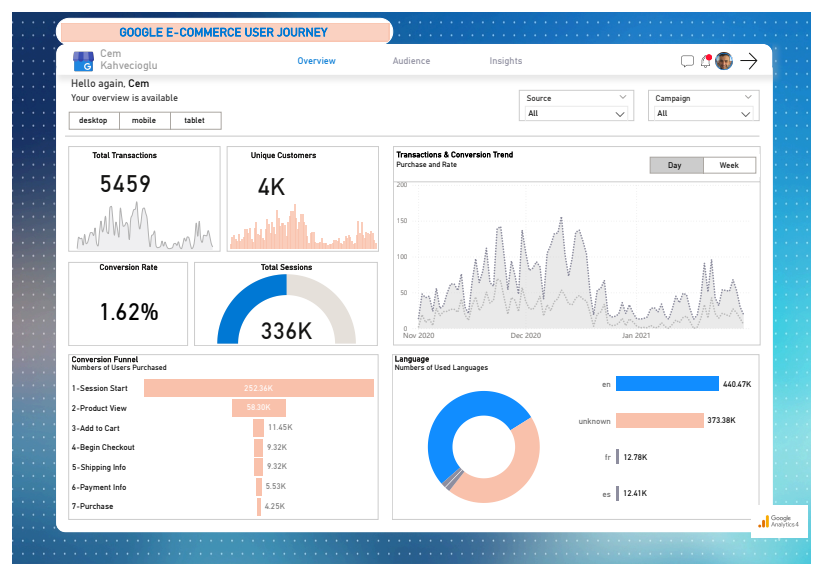

The dashboard page shown, as its layout file describes it:
{"tool":"powerbi","page":{"name":"Overview ","canvas":[1450,1000],"ordinal":0},"visuals":[{"type":"shape","box":[79.6,10.2,611.8,49],"z":0,"group":"g2"},{"type":"shape","box":[79.6,87,1300,855.6],"z":0},{"type":"areaChart","fields":{"Y":["Query1.Purchase_Correct"],"Category":["Query1.event_date"]},"box":[101.9,242.6,275.9,190.7],"z":0,"group":"g3"},{"type":"areaChart","title":"Transactions & Conversion Trend","fields":{"Category":["Query1.event_date"],"Y2":["Query1.Conversion_Rate"],"Y":["Query1.Purchase_Correct"]},"box":[690.7,298.2,666.7,305.6],"z":0,"group":"g4"},{"type":"shape","box":[688.9,620.4,666.7,300],"z":0,"group":"g1"},{"type":"textbox","box":[114.9,18,539.2,35.3],"z":1000,"group":"g2"},{"type":"textbox","box":[690.7,242.6,666.7,64.8],"z":1000,"group":"g4"},{"type":"card","title":"Total Transactions","fields":{"Values":["Query1.Purchase_Correct"]},"box":[140.8,250,128,94.4],"z":1000,"group":"g3"},{"type":"funnel","title":"Conversion Funnel","fields":{"Category":["Query1.Funnel_info"],"Y":["Count(Query1.user_pseudo_id)"]},"box":[101.9,620.4,563,300],"z":1000},{"type":"donutChart","title":"Language","fields":{"Category":["Query1.language"],"Y":["CountNonNull(Query1.language)"]},"box":[688.9,620.4,333.3,300],"z":1000,"group":"g1"},{"type":"advancedSlicerVisual","fields":{"Values":["date param.date param"]},"box":[1151.8,257.4,203.7,40.7],"z":2000,"group":"g4"},{"type":"gauge","title":"Total Sessions","fields":{"Y":["Query1.Session_Start_Count"]},"box":[329.6,451.9,333.3,151.9],"z":2000},{"type":"clusteredBarChart","fields":{"Y":["CountNonNull(Query1.language)"],"Category":["Query1.language"]},"box":[1022.2,620.4,333.3,300],"z":2000,"group":"g1"},{"type":"clusteredColumnChart","fields":{"Y":["Query1.Unique Customers"],"Category":["Query1.event_date"]},"box":[388.9,242.6,275.9,190.7],"z":3000},{"type":"group","id":"g1","title":"Group 2","box":[688.9,620.4,666.7,300],"z":4000},{"type":"card","title":"Conversion Rate","fields":{"Values":["Query1.Conversion_Rate"]},"box":[101.9,451.9,216.7,151.9],"z":5000},{"type":"shape","box":[96.3,203.7,1261.1,40.7],"z":6000},{"type":"advancedSlicerVisual","title":"category","fields":{"Values":["Query1.category"]},"box":[97.1,175.6,287,42.6],"z":7000},{"type":"cardVisual","title":"Unique Customers","fields":{"Data":["Query1.Unique Customers"]},"box":[427.8,250,137,94.4],"z":8000},{"type":"slicer","title":"asd","fields":{"Values":["Query1.campaign"]},"box":[1154.1,140.8,202.2,55.6],"z":9000},{"type":"shape","box":[79,56.8,1301.2,55.6],"z":10000},{"type":"slicer","fields":{"Values":["Query1.Short\\_Source"]},"box":[920.8,140.8,208.9,55.6],"z":11000},{"type":"textbox","box":[102.1,112.1,300,64.1],"z":13000},{"type":"actionButton","box":[1315.8,67.8,47.8,42],"z":14000},{"type":"image","box":[103.4,64.4,51,47.1],"z":15000},{"type":"textbox","box":[154.5,57.1,164.8,63],"z":16000},{"type":"image","box":[1210.7,67.4,32.3,41.9],"z":17000},{"type":"image","box":[1242.9,67.4,32.3,41.9],"z":18000},{"type":"shape","box":[1258.8,76.2,12.4,12],"z":19000},{"type":"image","box":[1271.3,68.2,40.6,40.3],"z":20000},{"type":"shape","box":[1277.2,73.3,30.6,31.2],"z":21000},{"type":"pageNavigator","box":[468,66,516,44],"z":22000},{"type":"image","box":[1337.5,846.4,112.5,153.6],"z":23000},{"type":"group","id":"g2","title":"Group 4","box":[79.6,10.2,610.2,49],"z":24000},{"type":"group","id":"g3","title":"Group 1","box":[101.9,242.6,275.9,190.7],"z":25000},{"type":"group","id":"g4","title":"Group 3","box":[690.7,242.6,666.7,361.1],"z":26000}]}

Visuals, with their boxes in screenshot pixels (x1, y1, x2, y2), scaled from the page's 1450x1000 canvas onto the 822x576 screenshot:
shape: rect(45, 6, 392, 34)
shape: rect(45, 50, 782, 543)
areaChart - Query1.Purchase_Correct x Query1.event_date: rect(58, 140, 214, 250)
"Transactions & Conversion Trend" areaChart: rect(392, 172, 770, 348)
shape: rect(391, 357, 768, 530)
textbox: rect(65, 10, 371, 31)
textbox: rect(392, 140, 770, 177)
"Total Transactions" card: rect(80, 144, 152, 198)
"Conversion Funnel" funnel: rect(58, 357, 377, 530)
"Language" donutChart: rect(391, 357, 579, 530)
advancedSlicerVisual - date param.date param: rect(653, 148, 768, 172)
"Total Sessions" gauge: rect(187, 260, 376, 348)
clusteredBarChart - CountNonNull(Query1.language) x Query1.language: rect(579, 357, 768, 530)
clusteredColumnChart - Query1.Unique Customers x Query1.event_date: rect(220, 140, 377, 250)
"Group 2" group: rect(391, 357, 768, 530)
"Conversion Rate" card: rect(58, 260, 181, 348)
shape: rect(55, 117, 770, 141)
"category" advancedSlicerVisual: rect(55, 101, 218, 126)
"Unique Customers" cardVisual: rect(243, 144, 320, 198)
"asd" slicer: rect(654, 81, 769, 113)
shape: rect(45, 33, 782, 65)
slicer - Query1.Short\_Source: rect(522, 81, 640, 113)
textbox: rect(58, 65, 228, 101)
actionButton: rect(746, 39, 773, 63)
image: rect(59, 37, 88, 64)
textbox: rect(88, 33, 181, 69)
image: rect(686, 39, 705, 63)
image: rect(705, 39, 723, 63)
shape: rect(714, 44, 721, 51)
image: rect(721, 39, 744, 62)
shape: rect(724, 42, 741, 60)
pageNavigator: rect(265, 38, 558, 63)
image: rect(758, 488, 821, 575)
"Group 4" group: rect(45, 6, 391, 34)
"Group 1" group: rect(58, 140, 214, 250)
"Group 3" group: rect(392, 140, 770, 348)
